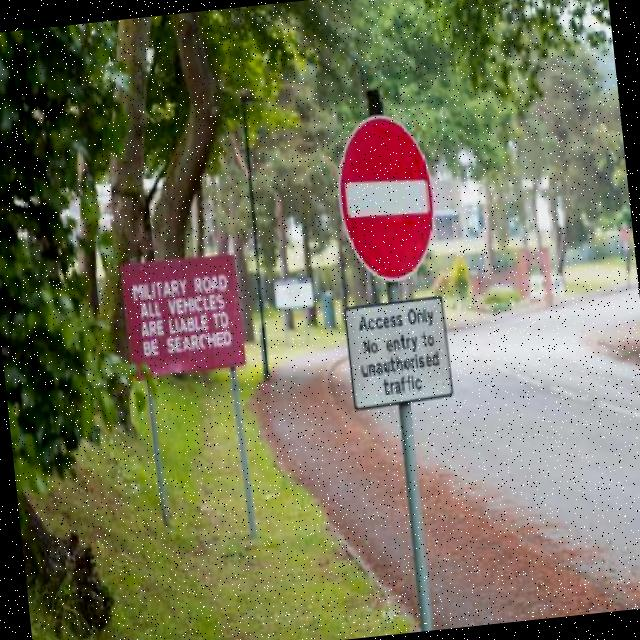Zakaz wjazdu: (330, 108, 448, 288)
